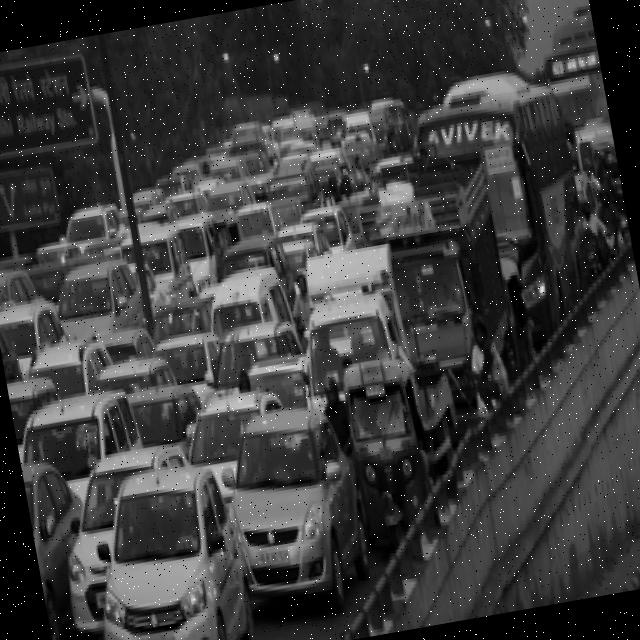Autre: (251, 533, 301, 574), (90, 582, 112, 614), (132, 626, 177, 640)
